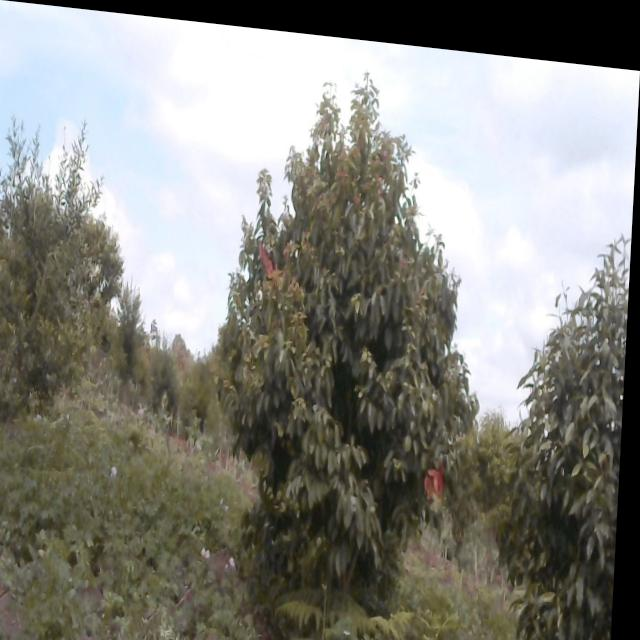Hass Avocado: (209, 37, 493, 630)
Lemon Myrtle: (499, 204, 634, 640)
Salix alba: (0, 114, 118, 398)
cedrus: (113, 271, 149, 395), (146, 321, 190, 418)
